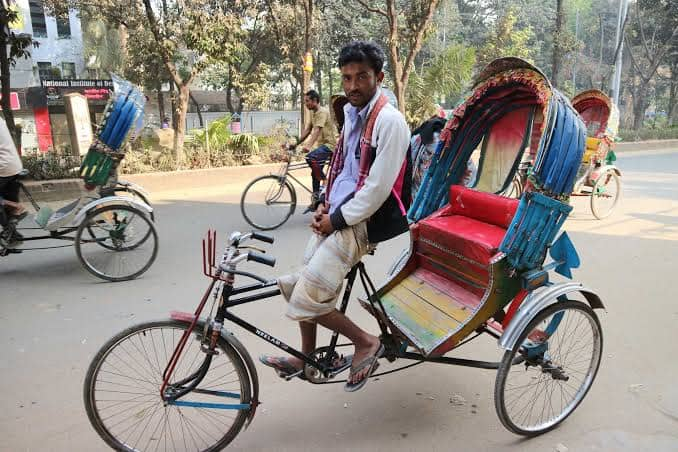Rickshaw: (81, 49, 599, 451), (1, 73, 178, 295), (231, 85, 358, 219), (561, 75, 633, 223)
